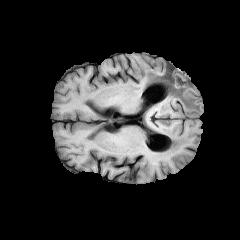glioma: (129, 64, 200, 151)
